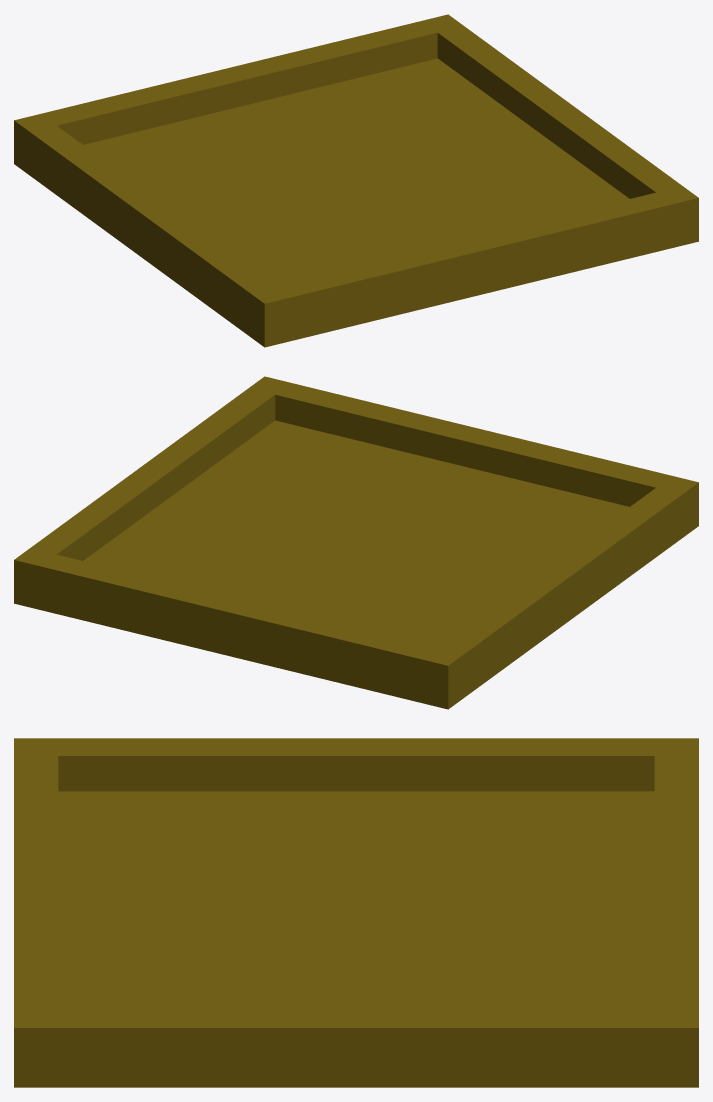
File: SquareFaceGround.fbx
3 views of the same model, one above another, from view 1: azimuth 30°, elevation 25°; view 2: azimuth 150°, elevation 25°; view 3: azimuth 270°, elevation 25° (orthographic). The views are drawn at different scales.
Visible parts, largest first — view 1: pCube2; view 2: pCube2; view 3: pCube2.
Boxes of the visible parts, <box> form: pCube2: <box>14,14,698,347</box>; pCube2: <box>14,376,698,709</box>; pCube2: <box>14,738,698,1087</box>.
Bounding box in the file's own units: 0.52 × 0.05 × 0.52.
Materials: 1 (1 with a texture image).
